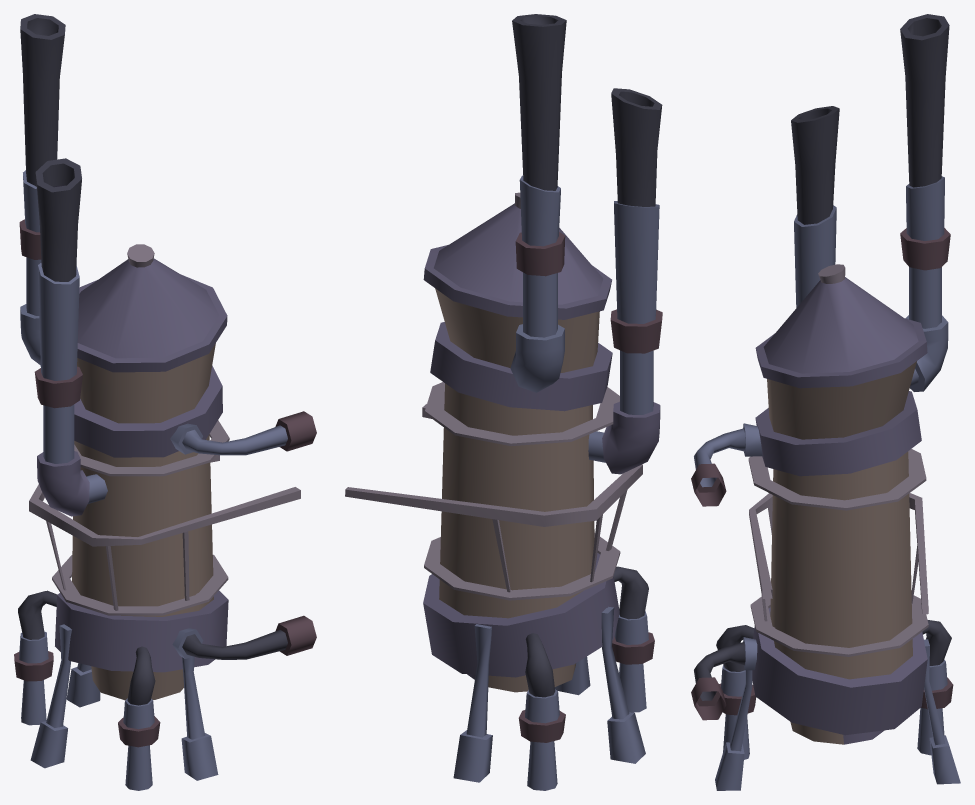
File: RooftopProp_Tank-01.fbx
3 renders of one model, left to right at view 1: azimuth 30°, elevation 25°; view 2: azimuth 150°, elevation 25°; view 3: azimuth 270°, elevation 25°, orthographic. The views are drawn at different scales.
Parts seen in each view (by area): view 1: RooftopProp_Tank-01; view 2: RooftopProp_Tank-01; view 3: RooftopProp_Tank-01.
Boxes of the visible parts, bbox=[...] form: RooftopProp_Tank-01: bbox=[14, 14, 316, 790]; RooftopProp_Tank-01: bbox=[345, 14, 662, 790]; RooftopProp_Tank-01: bbox=[691, 14, 960, 790].
Size of the model in its own units: 9.68 by 27.04 by 9.07.
